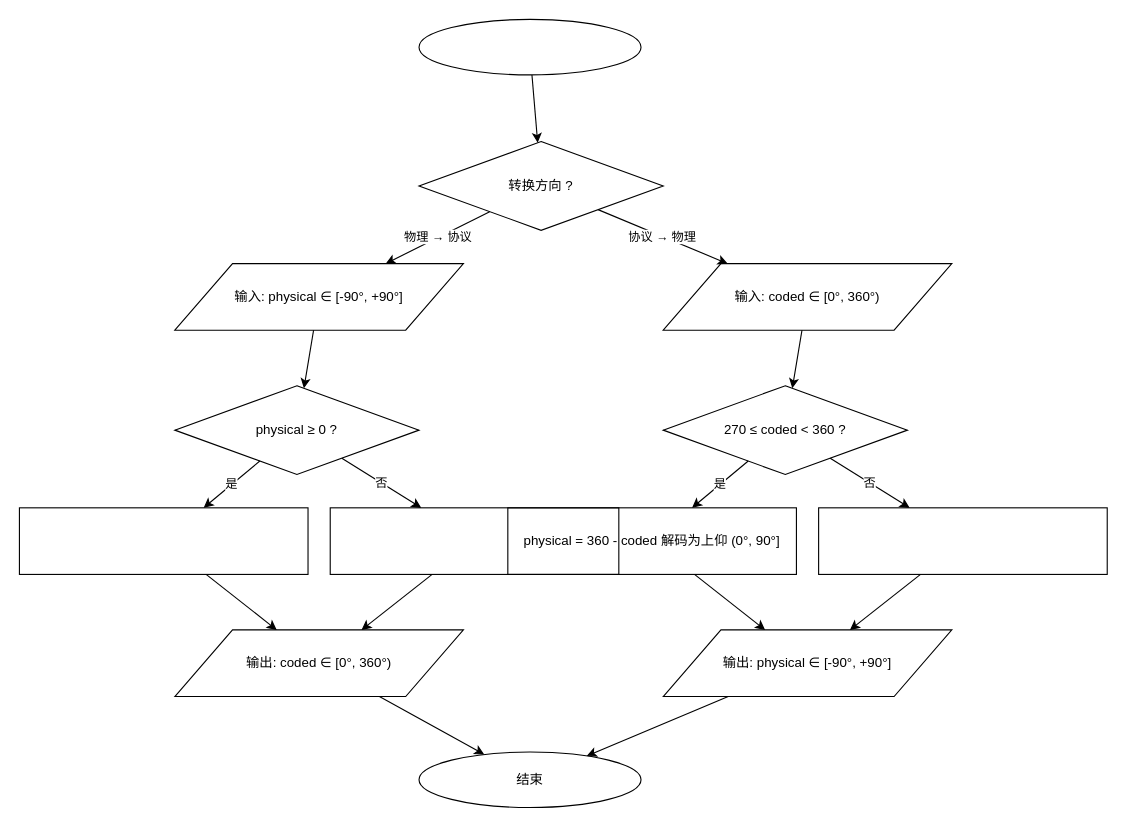
This 1127x827 diagram has some shape labels left out. Here are the shapes that lost their labels. From the top down, the box of each, then its label:
(418, 18, 641, 75): 开始
(18, 507, 308, 574): coded = 360 - physical 上仰映射到 (270°, 360°]
(329, 507, 619, 574): coded = abs(physical) 下俯映射到 (0°, 90°]
(818, 507, 1107, 574): physical = -coded 解码为下俯 [-90°, 0°)
